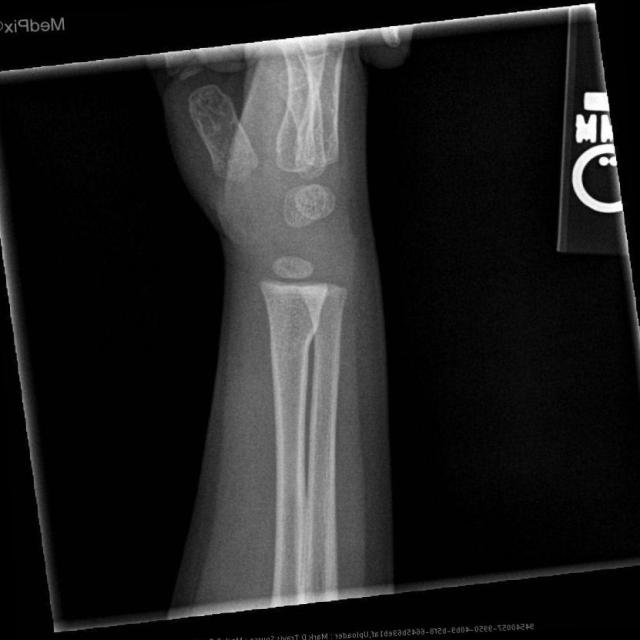Oblique Displaced: (286, 282, 332, 352)
